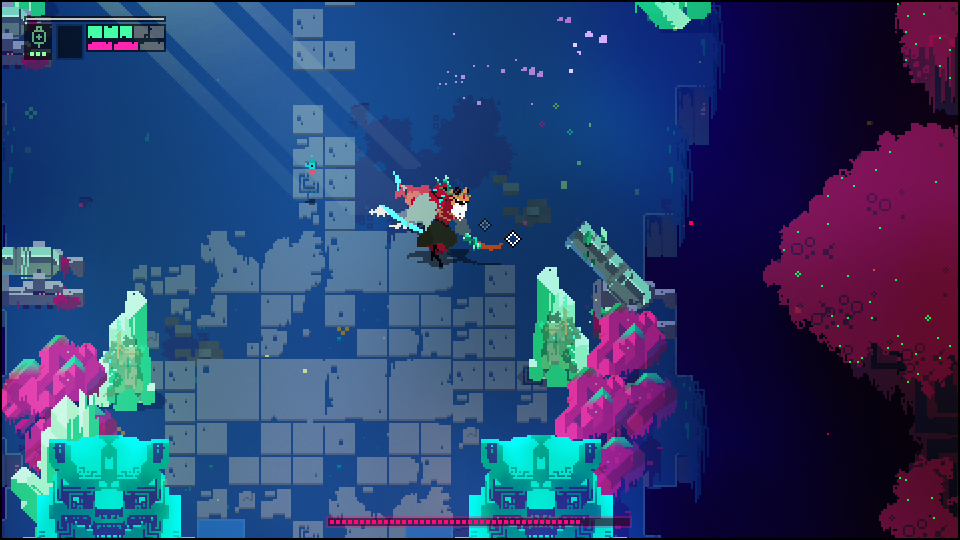hanged_man: (400, 188, 481, 258)
